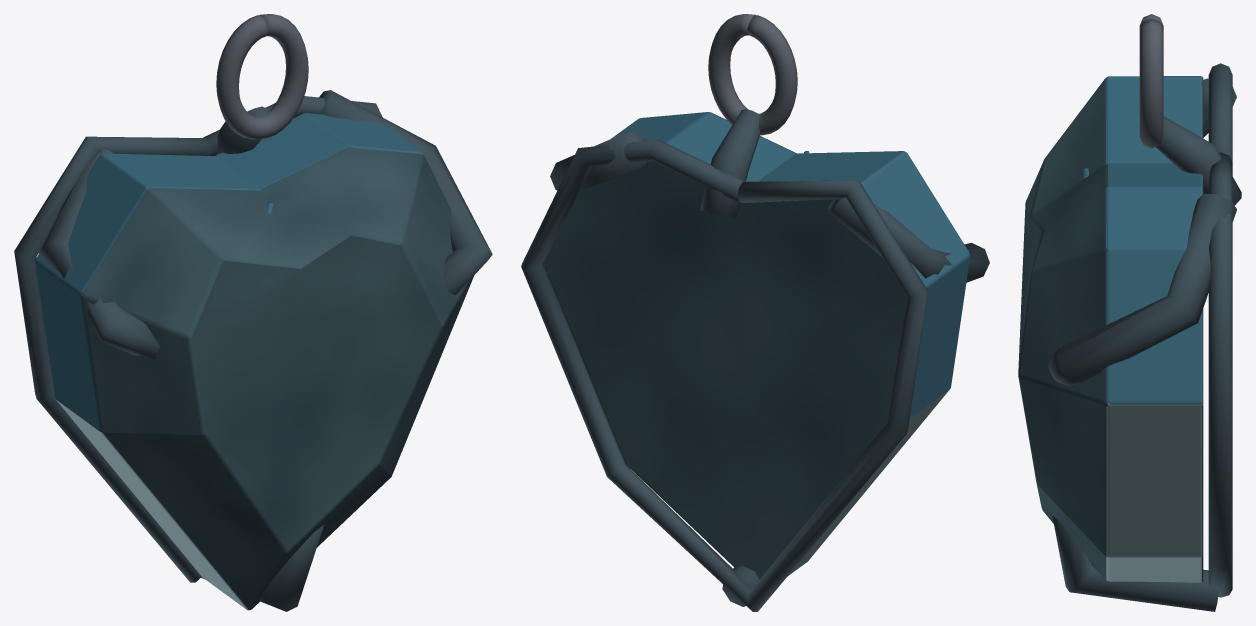
The model's file is wardenheart.glb.
The picture shows the model from 3 angles, left to right: view 1: azimuth 30°, elevation 25°; view 2: azimuth 150°, elevation 25°; view 3: azimuth 270°, elevation 25°; orthographic projection. The views are drawn at different scales.
Visible parts, largest first — view 1: wardenheart_Baked.001 export; view 2: wardenheart_Baked.001 export; view 3: wardenheart_Baked.001 export.
Boxes of the visible parts, box(x1,y1,x2,y2) form: wardenheart_Baked.001 export: box(14, 14, 492, 611); wardenheart_Baked.001 export: box(521, 14, 989, 611); wardenheart_Baked.001 export: box(1018, 14, 1241, 611).
Size of the model in its own units: 0.1439 by 0.1921 by 0.0648.
Materials: 1 (1 with a texture image).
